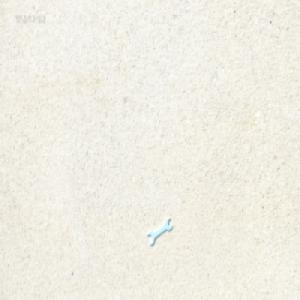Wrench: (146, 219, 171, 247)
